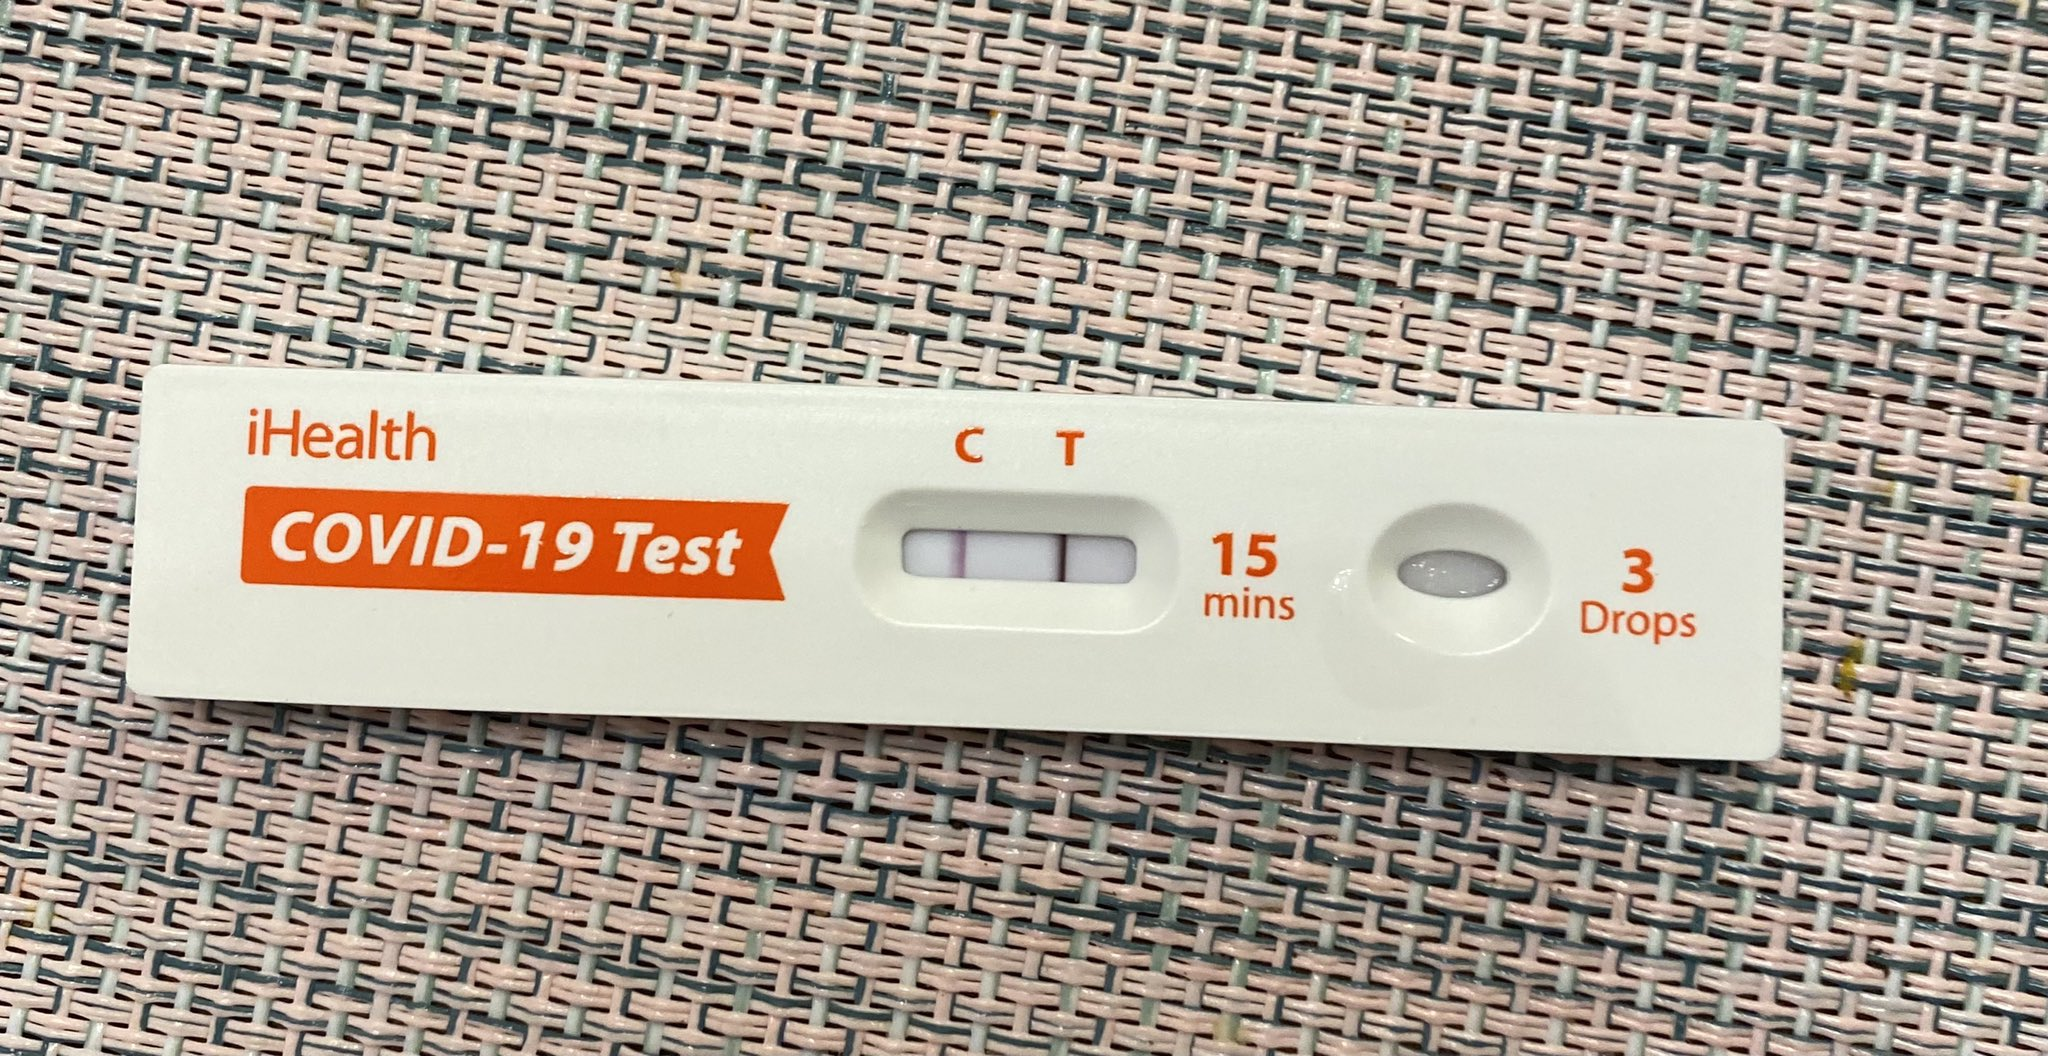positive: (893, 506, 1149, 598)
